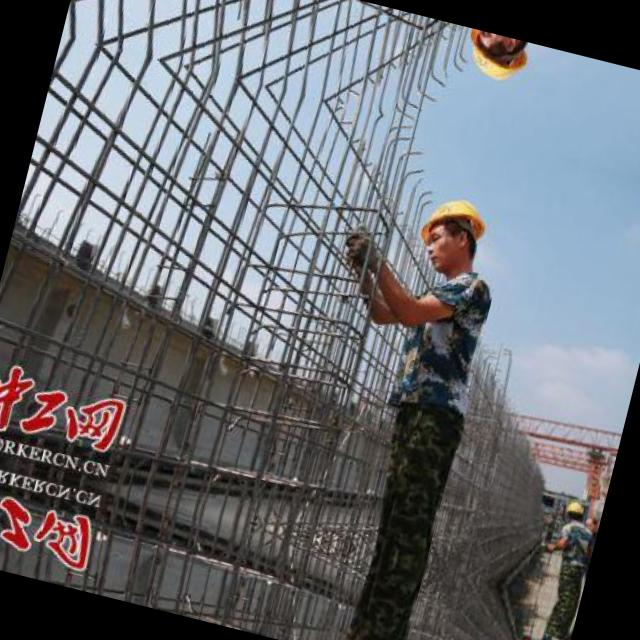helmet: (405, 180, 500, 285), (451, 26, 539, 98), (560, 494, 586, 524)
